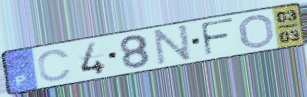4: (79, 41, 108, 76)
8: (119, 33, 152, 70)
C: (36, 48, 74, 83)
F: (199, 16, 237, 58)
N: (153, 23, 193, 67)
O: (238, 13, 277, 50)
